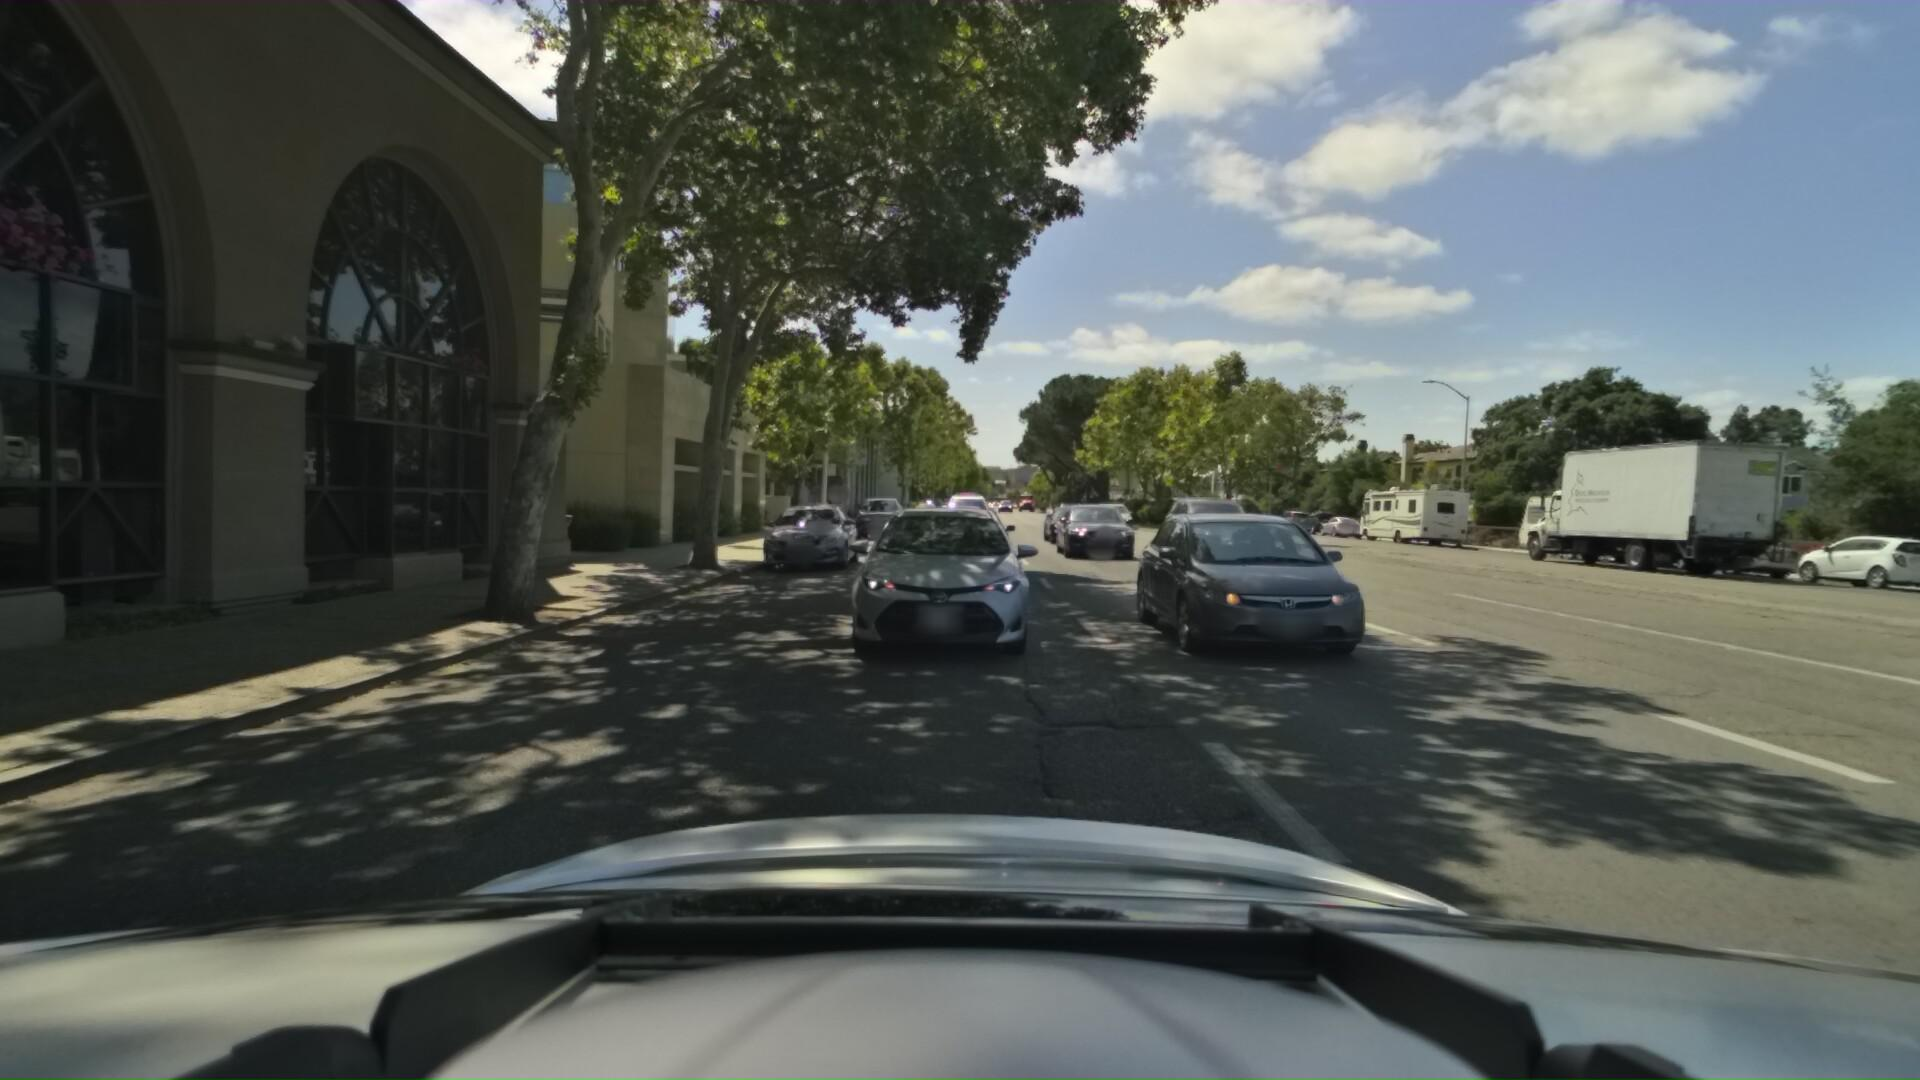car: (1126, 502, 1386, 679), (822, 498, 1043, 694), (1774, 526, 1920, 593), (1654, 524, 1793, 580), (760, 498, 861, 574), (920, 495, 1009, 579), (1154, 484, 1254, 551), (1047, 496, 1137, 559), (1034, 501, 1095, 547), (851, 492, 909, 538), (938, 481, 993, 522), (1292, 501, 1342, 535), (1087, 497, 1135, 531), (1312, 509, 1364, 538), (1270, 502, 1305, 529), (907, 498, 938, 520), (1039, 500, 1068, 521)
other_vehicle: (1505, 477, 1704, 568), (1349, 473, 1472, 553), (1873, 468, 1920, 632)
truck: (1491, 429, 1783, 575)
